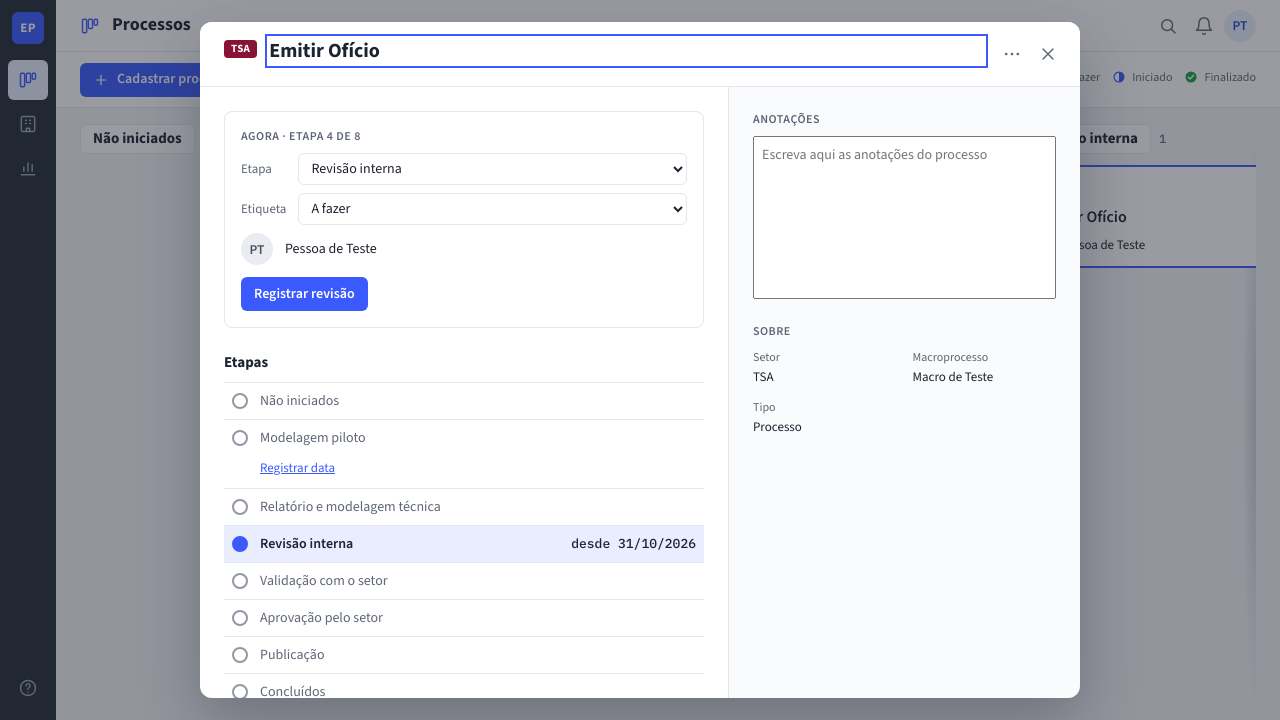
Test: a janela mostra a versão de cada resultado, e "Registrar" só habilita com o resultado escolhido
What coordinates should you click on to do the following:
click the button "Registrar revisão"
I would click on:
 (304, 294)
Its box is [241,277,368,311].
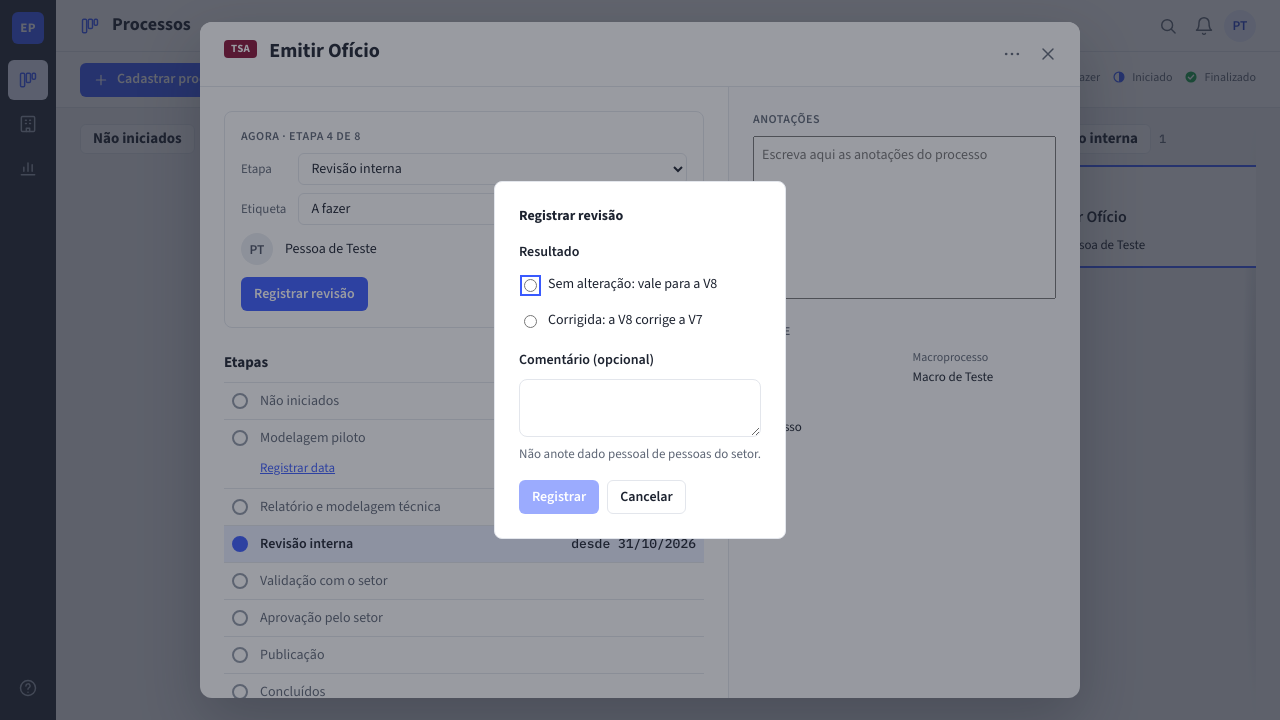
Result: the radio button labelled "Sem alteração: vale para a V8" is shown
Result: the radio button labelled "Corrigida: a V8 corrige a V7" is shown at [524,315,537,328]
Result: the button "Registrar" is disabled at [519,480,599,514]
What coordinates should you click on to do the following:
click the radio button labelled "Sem alteração: vale para a V8"
I would click on:
 (530, 286)
Its box is [524,279,537,292].
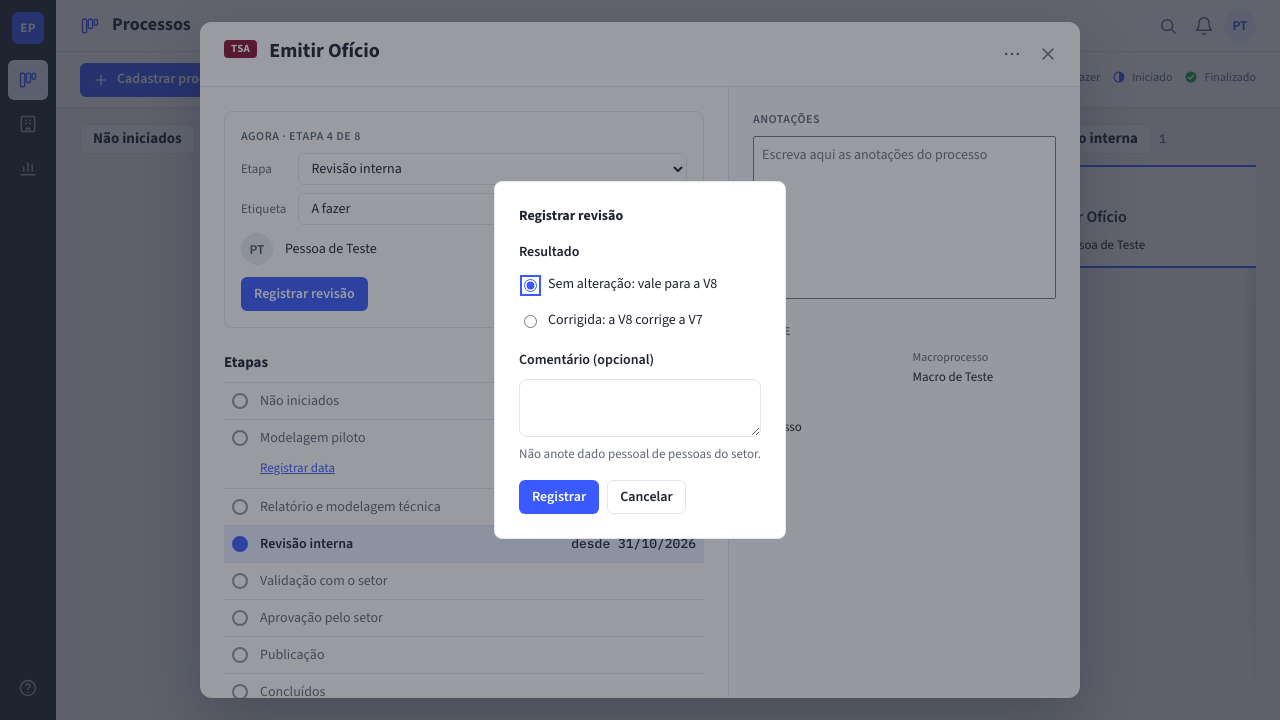
Result: the button "Registrar" is enabled at [519,480,599,514]
